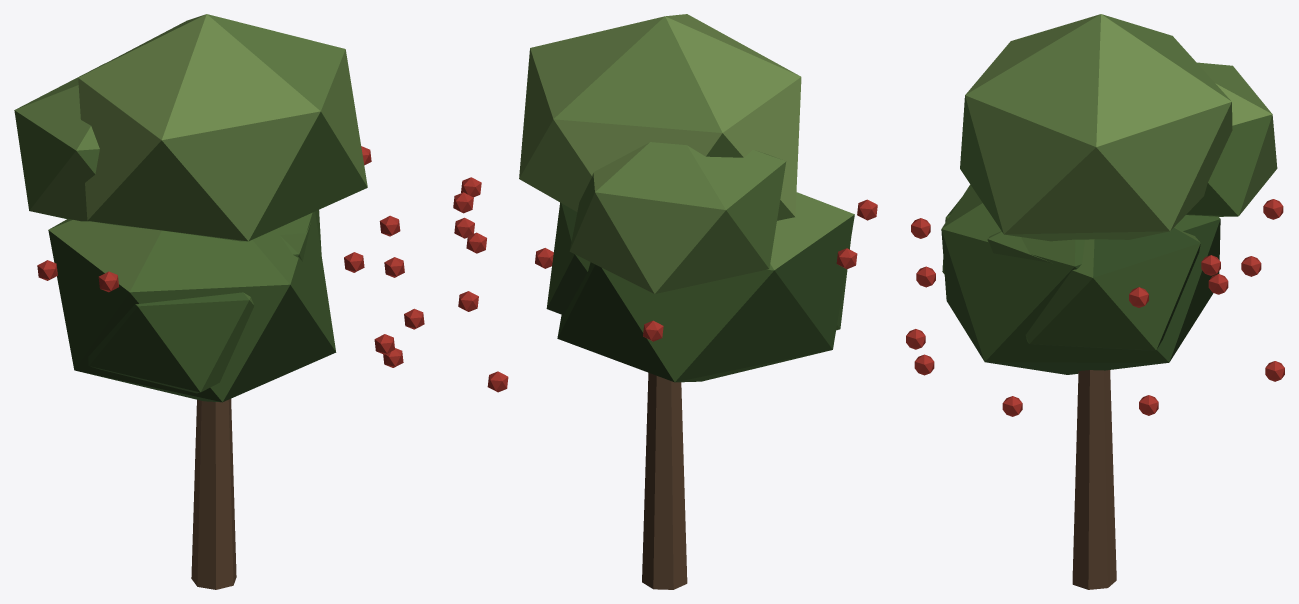
File: lwf_tree_old_apple_v1.glb
3 views of the same model, side by side, from view 1: azimuth 30°, elevation 25°; view 2: azimuth 150°, elevation 25°; view 3: azimuth 270°, elevation 25° (orthographic).
Parts seen in each view (by area): view 1: Crown, Trunk; view 2: Crown, Trunk; view 3: Crown, Trunk.
Part boxes in pixels (bbox=[...]): Crown: bbox=[14, 14, 424, 402]; Trunk: bbox=[191, 399, 236, 589]; Crown: bbox=[453, 14, 877, 392]; Trunk: bbox=[642, 372, 687, 589]; Crown: bbox=[906, 14, 1284, 416]; Trunk: bbox=[1072, 370, 1116, 589].
Bounding box in the file's own units: 3.24 × 4.83 × 2.94.
1 material, 1 textured.
